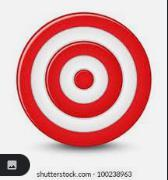target_red: (15, 11, 152, 147)
